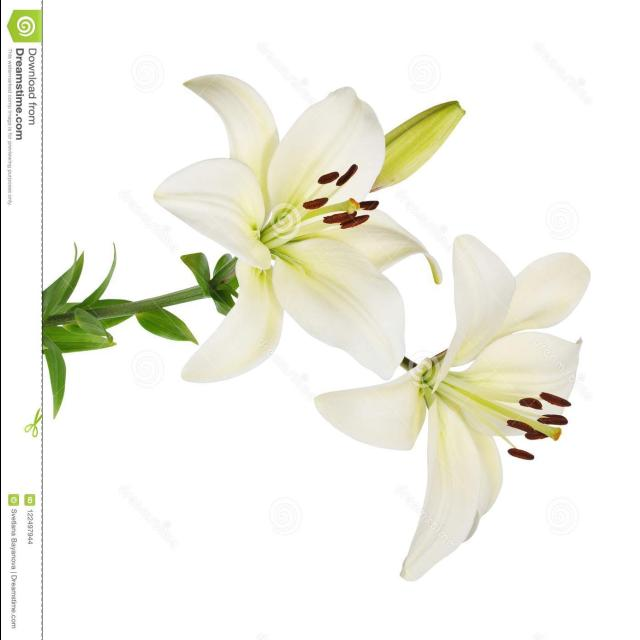lily: (339, 216, 594, 586)
